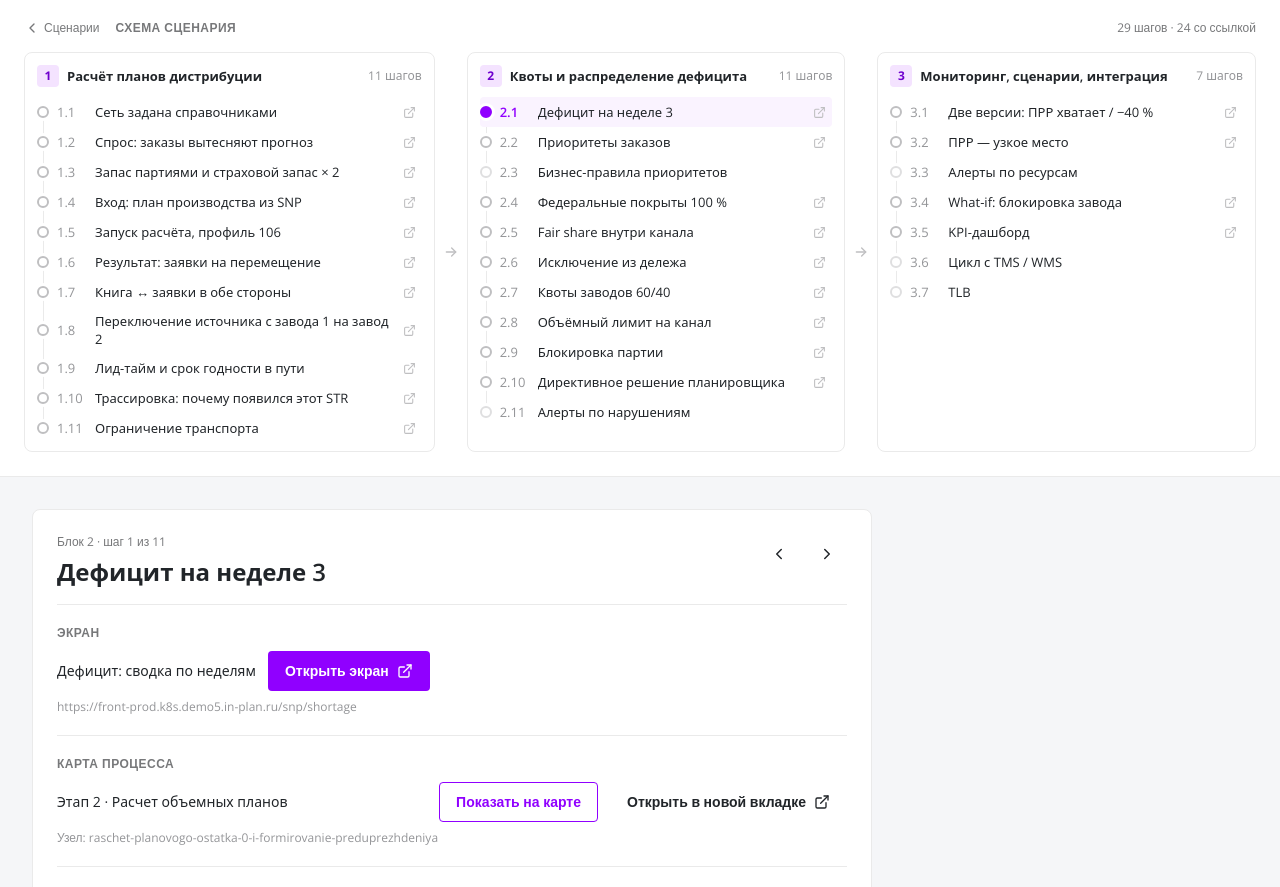
Кнопки ‹ › в шапке карточки (SPEC §4.4:275, §4.5:289) › 6: клик ‹ на 2.1 переводит на 1.11 (переход через границу блока назад)
Click the button named "Предыдущий шаг" at (779, 554), box [759,534,799,574]
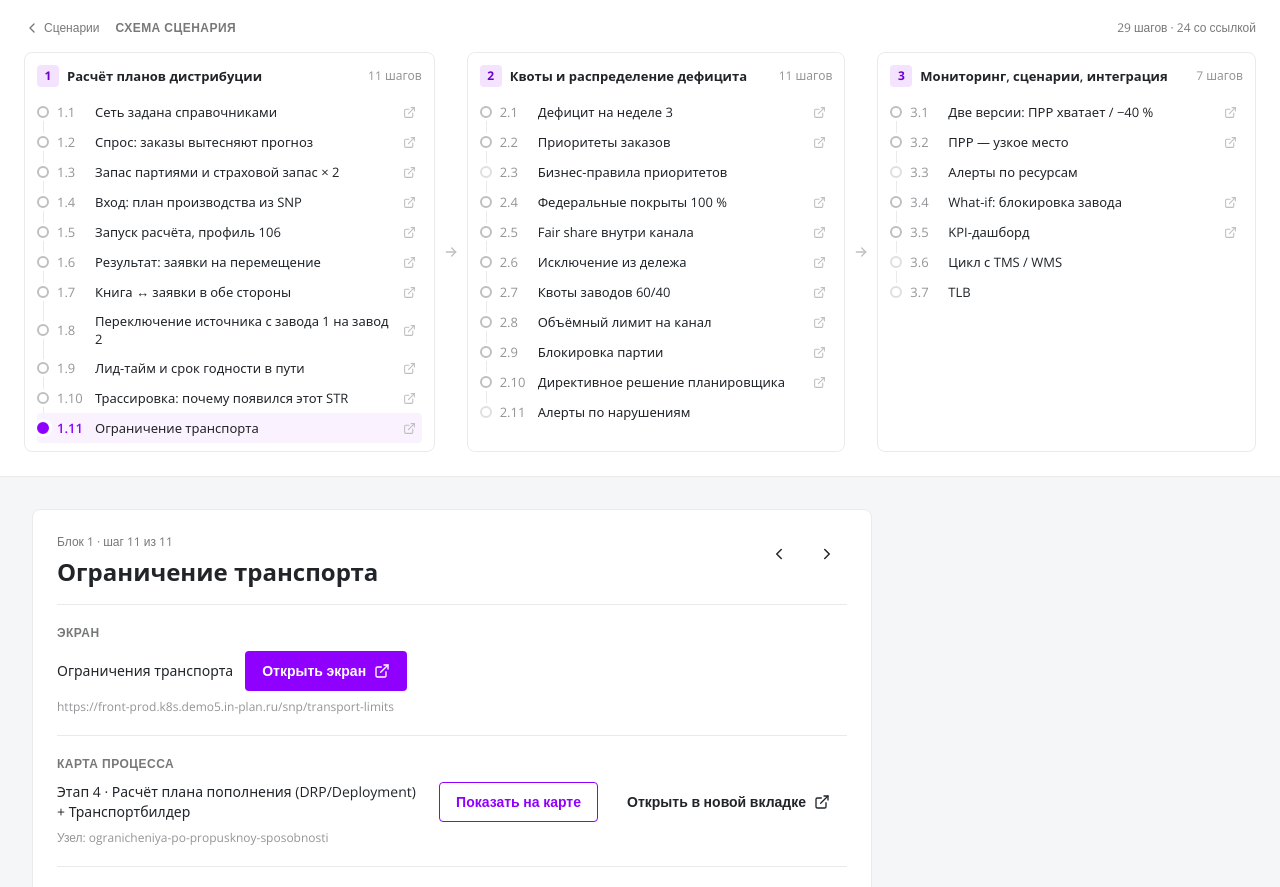
Now the heading "Ограничение транспорта" is shown, box [57,555,378,588]
